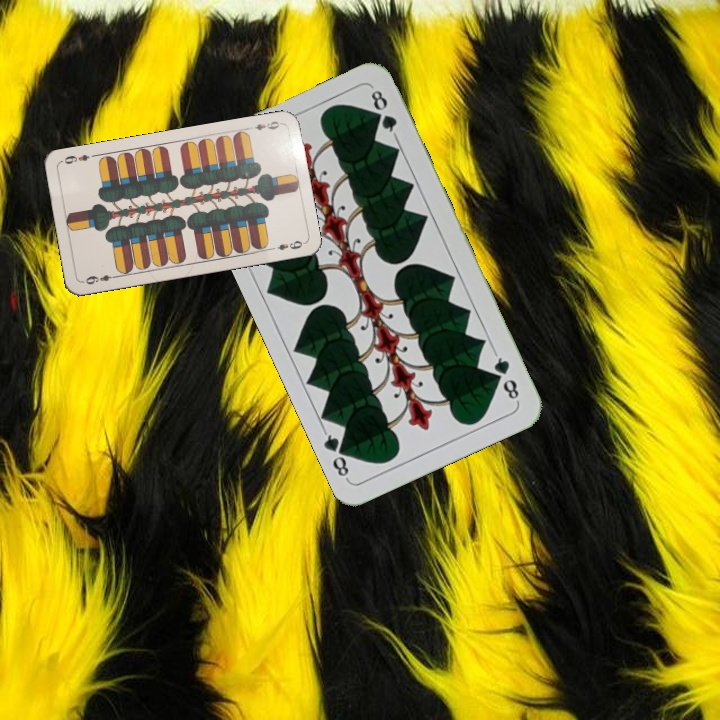E9: (81, 270, 120, 287), (244, 117, 285, 133)
G8: (489, 349, 522, 405)
